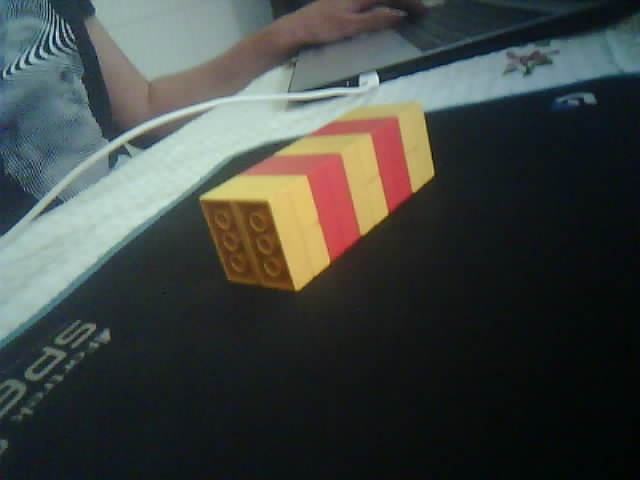lego: (198, 102, 438, 293)
